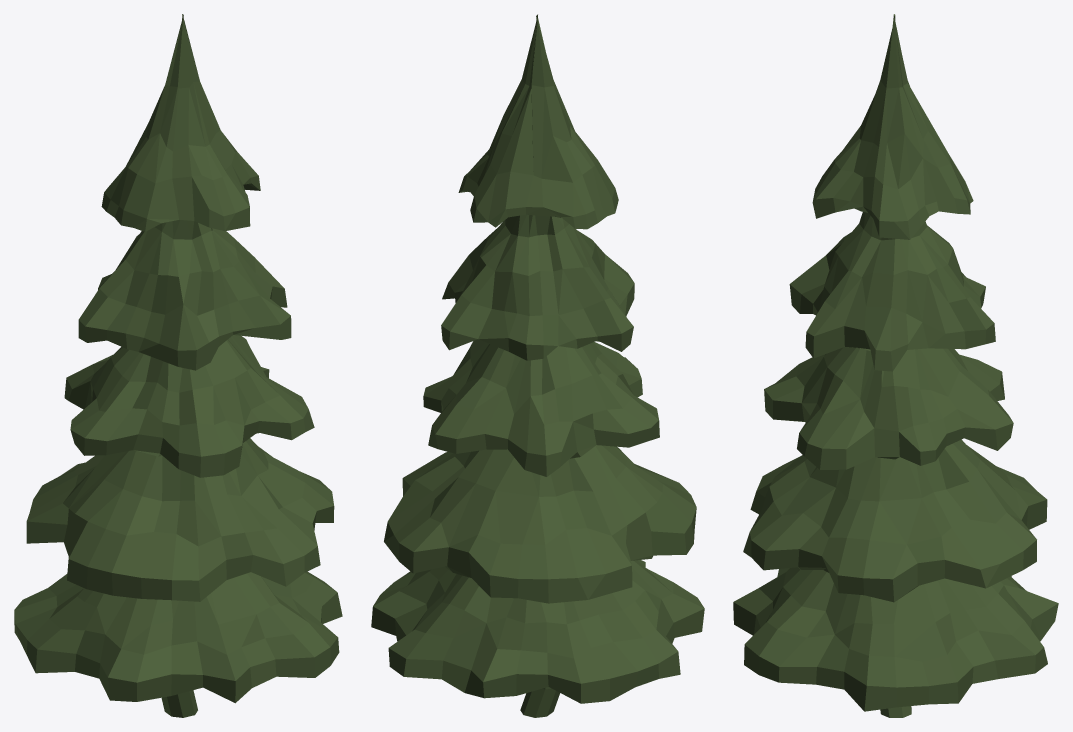
The model's file is tree_8.glb.
The picture shows the model from 3 angles, left to right: view 1: azimuth 30°, elevation 25°; view 2: azimuth 150°, elevation 25°; view 3: azimuth 270°, elevation 25°; orthographic projection.
Visible parts, largest first — view 1: _8_tree; view 2: _8_tree; view 3: _8_tree.
Part boxes in pixels (x1,y1,x2,y2): _8_tree: [14, 14, 342, 717]; _8_tree: [371, 14, 704, 717]; _8_tree: [733, 14, 1058, 717].
Size of the model in its own units: 0.9411 by 2.16 by 0.9146.
